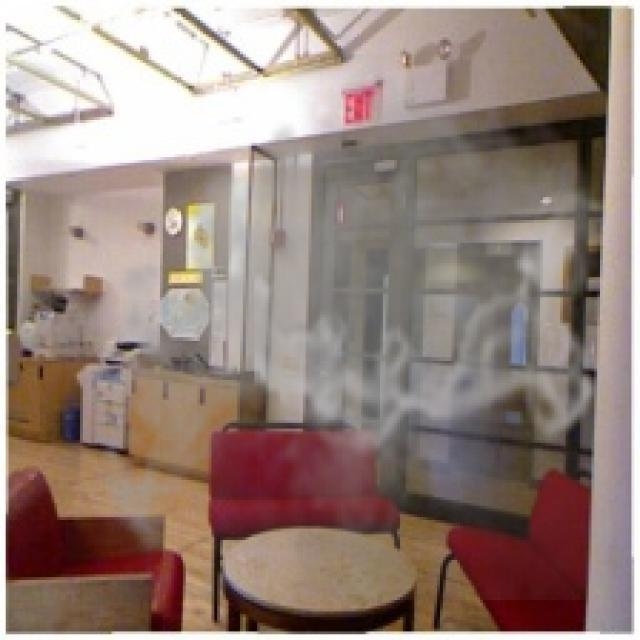Smoke: (82, 49, 608, 600)
